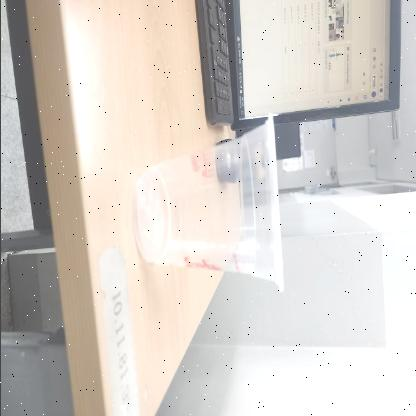Others: (131, 113, 283, 294)
